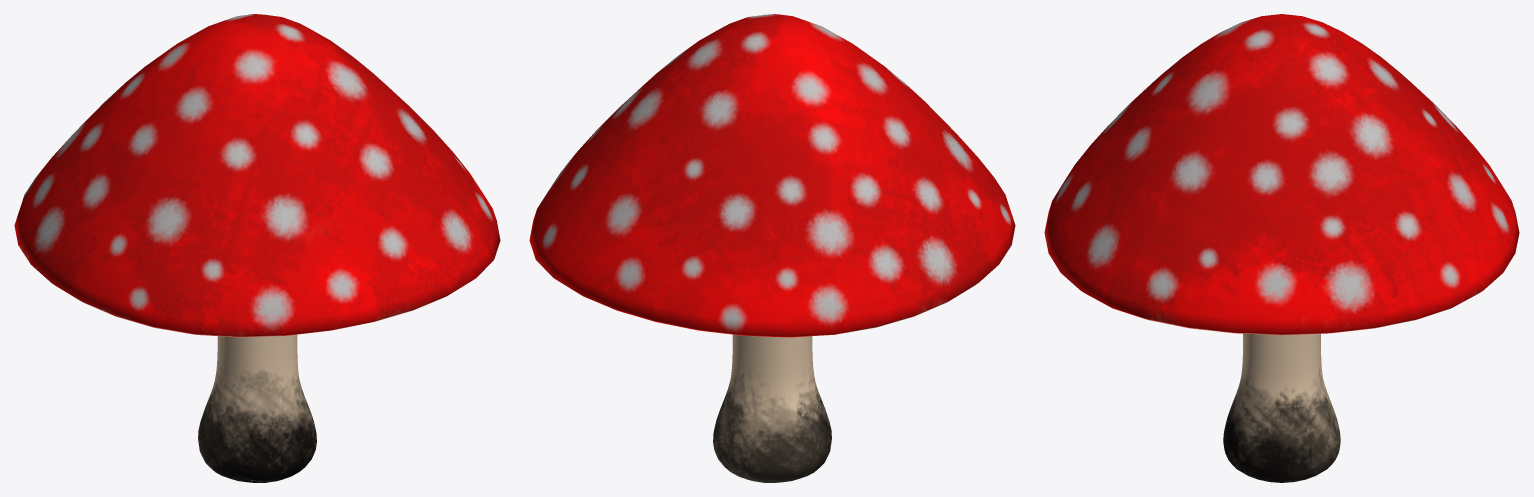
The model's file is mushroom_23816201.glb.
The picture shows the model from 3 angles, left to right: view 1: azimuth 30°, elevation 25°; view 2: azimuth 150°, elevation 25°; view 3: azimuth 270°, elevation 25°; orthographic projection.
Visible parts, largest first — view 1: SM_Mushroom_01_Mushroom_0; view 2: SM_Mushroom_01_Mushroom_0; view 3: SM_Mushroom_01_Mushroom_0.
Part boxes in pixels (bbox=[...]): SM_Mushroom_01_Mushroom_0: bbox=[14, 14, 500, 482]; SM_Mushroom_01_Mushroom_0: bbox=[529, 14, 1015, 482]; SM_Mushroom_01_Mushroom_0: bbox=[1044, 14, 1519, 482].
Size of the model in its own units: 3.48 by 3.65 by 3.48.
Materials: 1 (1 with a texture image).
